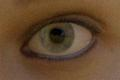eye: (40, 23, 73, 52)
